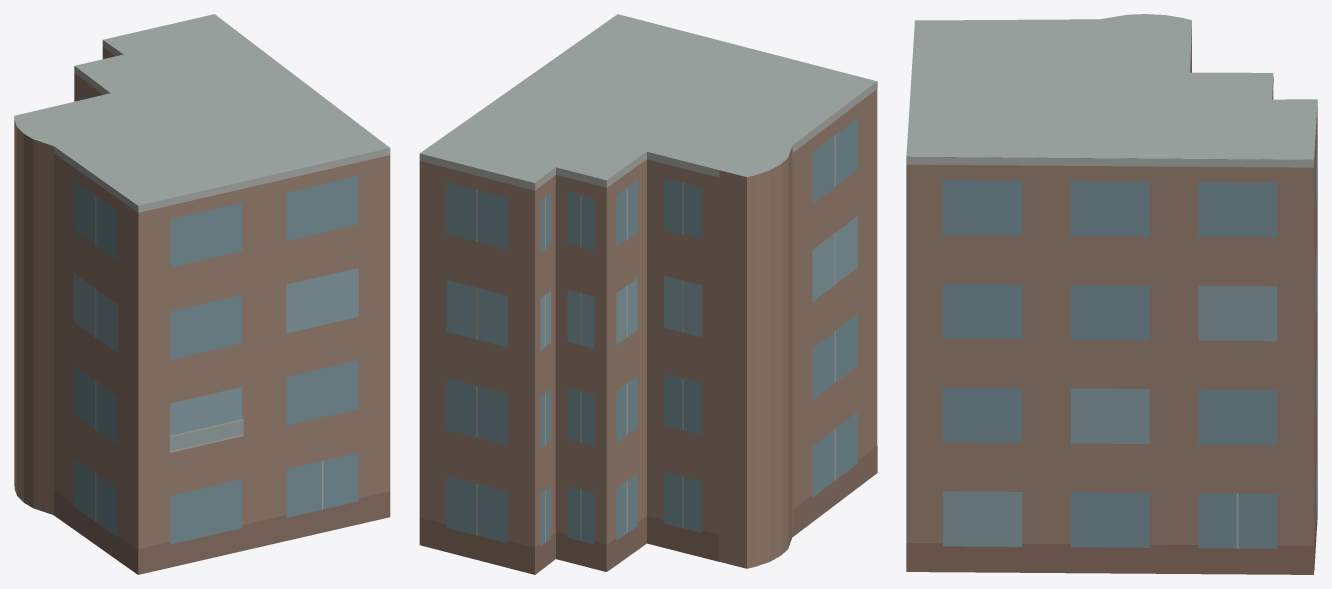
The model's file is survey-upis-32971449.glb.
3 views of the same model, side by side, from view 1: azimuth 30°, elevation 25°; view 2: azimuth 150°, elevation 25°; view 3: azimuth 270°, elevation 25° (orthographic). The views are drawn at different scales.
Visible parts, largest first — view 1: survey-upis-32971449.tmp; view 2: survey-upis-32971449.tmp; view 3: survey-upis-32971449.tmp.
Boxes of the visible parts, <box> form: survey-upis-32971449.tmp: <box>14,14,390,574</box>; survey-upis-32971449.tmp: <box>419,14,877,574</box>; survey-upis-32971449.tmp: <box>906,14,1317,574</box>.
Size of the model in its own units: 9.65 by 12.8 by 11.5.
